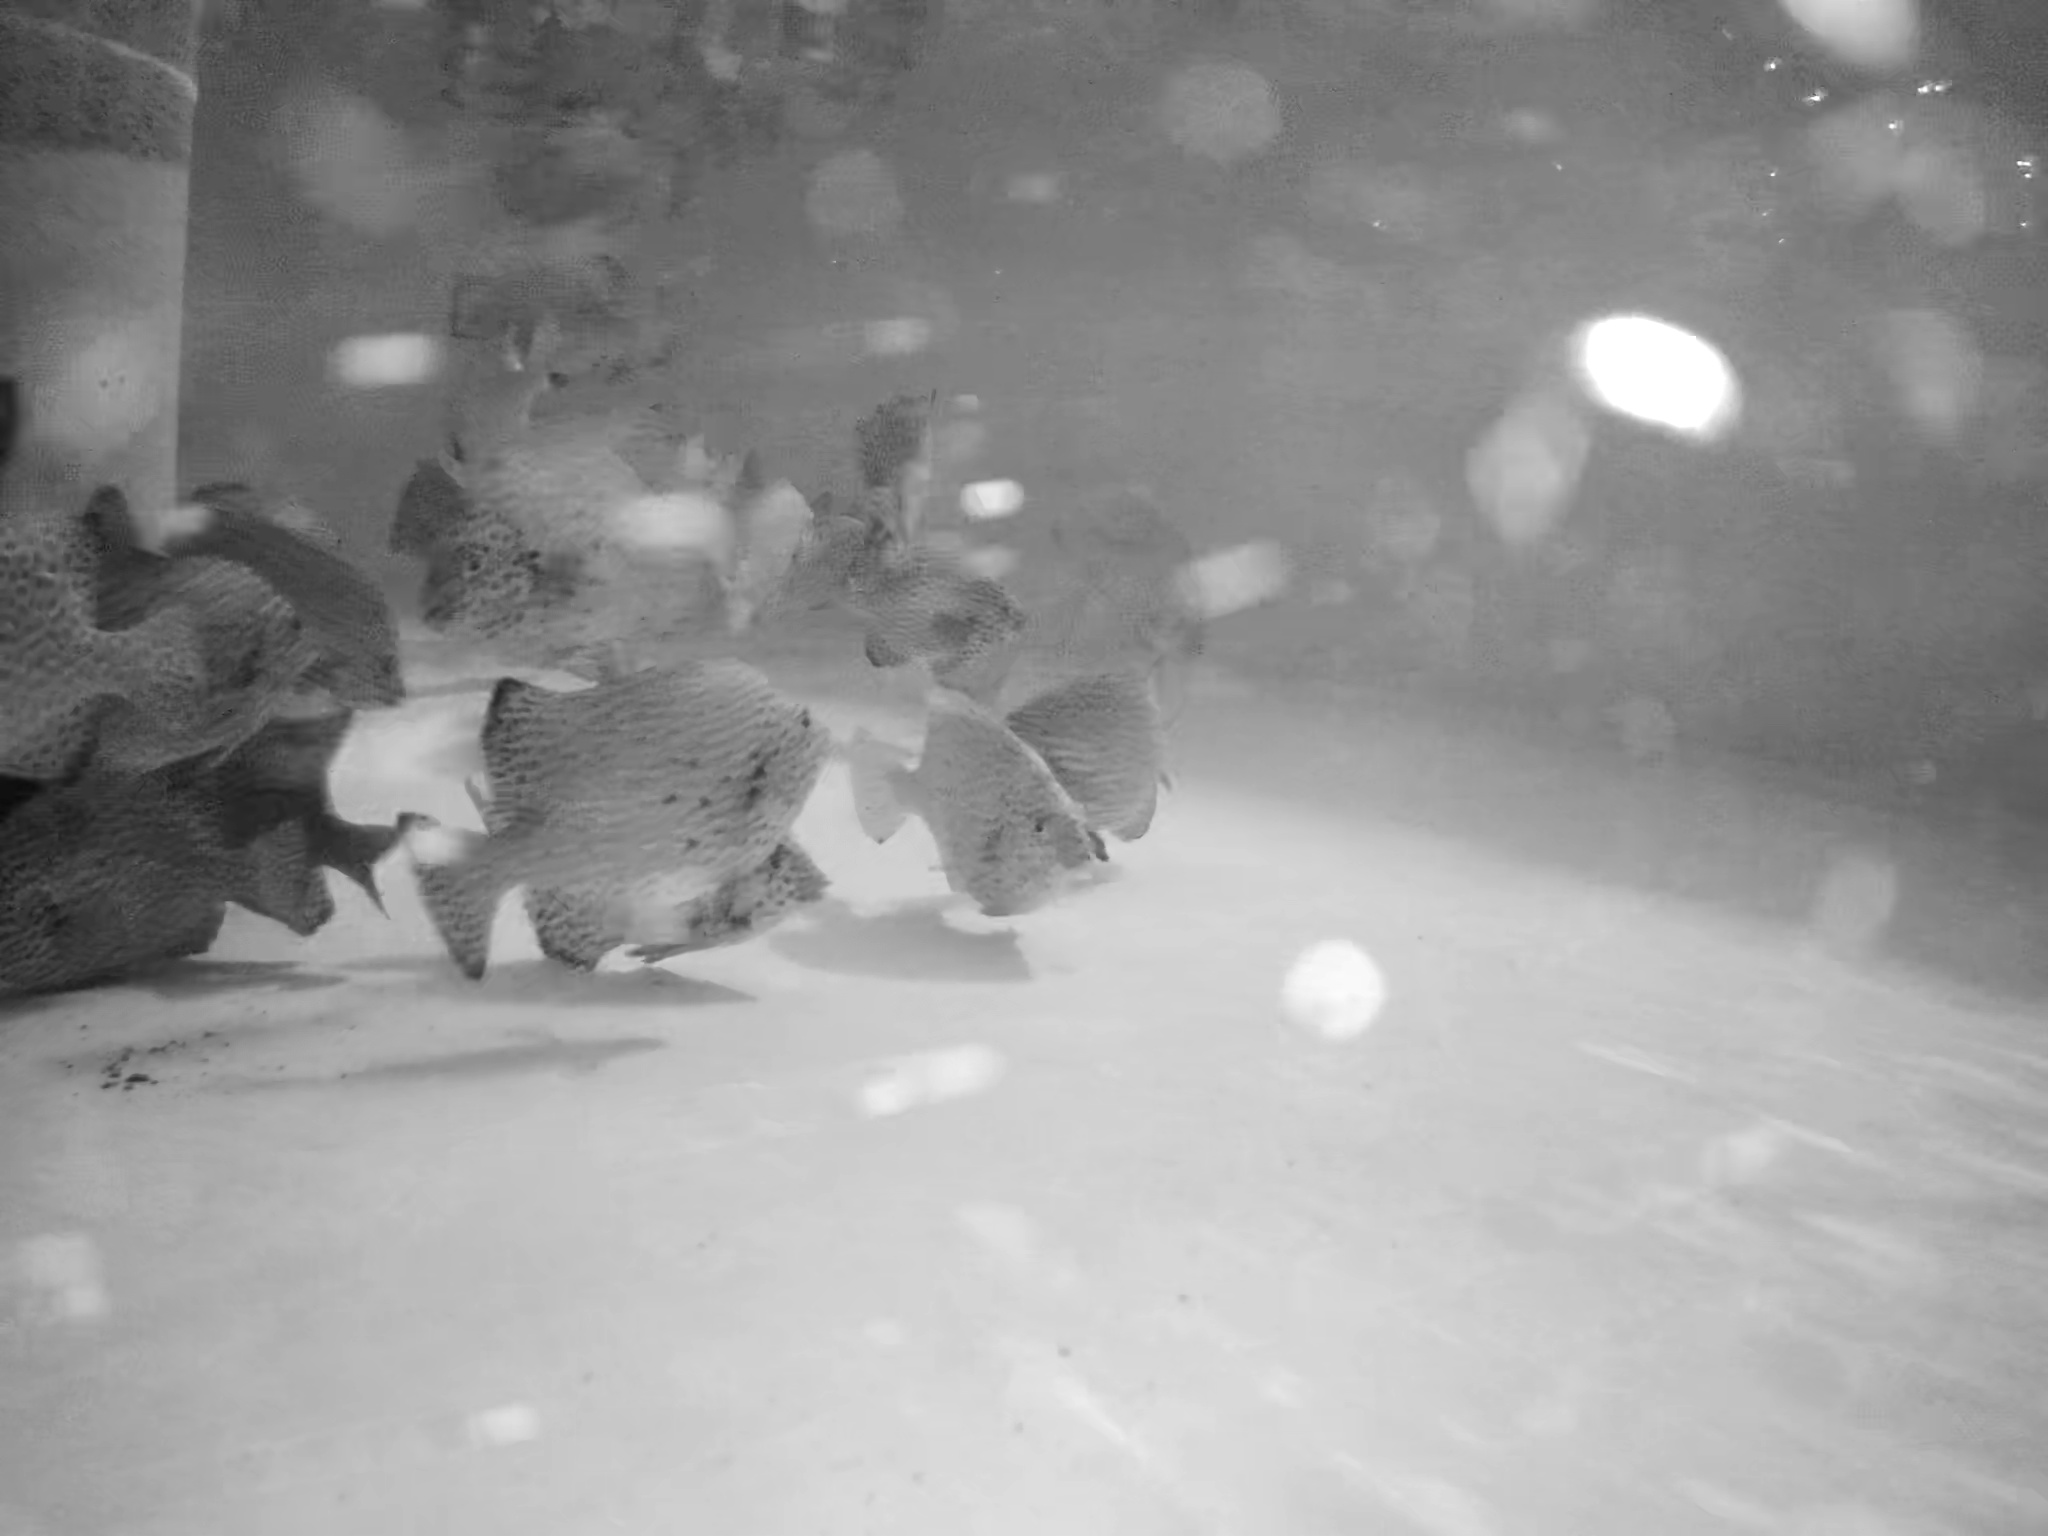fish: (384, 666, 856, 921), (31, 545, 393, 763), (3, 674, 252, 949), (168, 478, 402, 710), (858, 686, 1085, 908), (219, 691, 410, 942), (548, 845, 864, 973), (1043, 474, 1234, 678), (992, 673, 1184, 844), (402, 452, 555, 637), (818, 381, 968, 545), (863, 574, 1056, 671)
